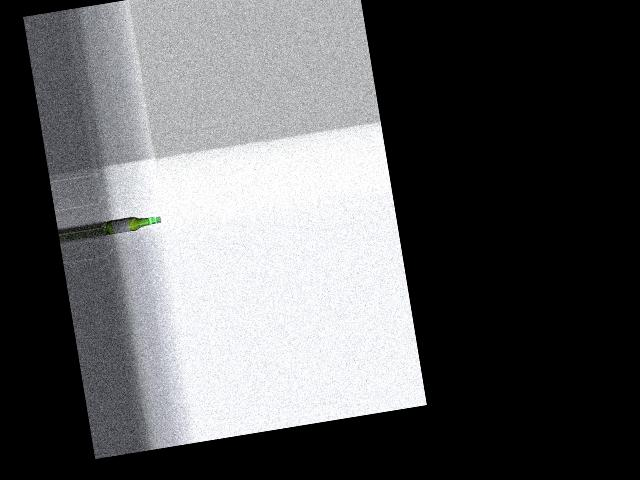beer: (105, 212, 161, 235)
